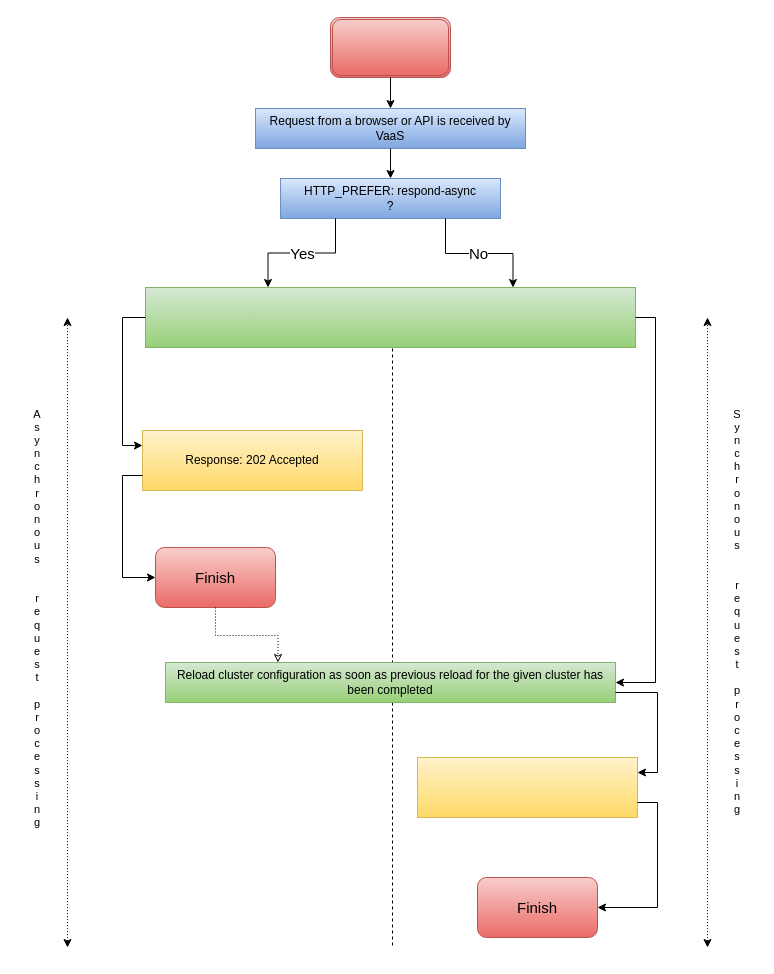
This 774x974 diagram has some shape labels left out. The centre of each missing label's shape, as x and y in pixels:
"Response: 201 Created" goes at point 527,787.
"Save data in the database and trigger signal for celery" goes at point 390,317.
"Start" goes at point 390,47.
